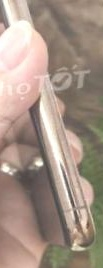scratch: (38, 88, 97, 243)
